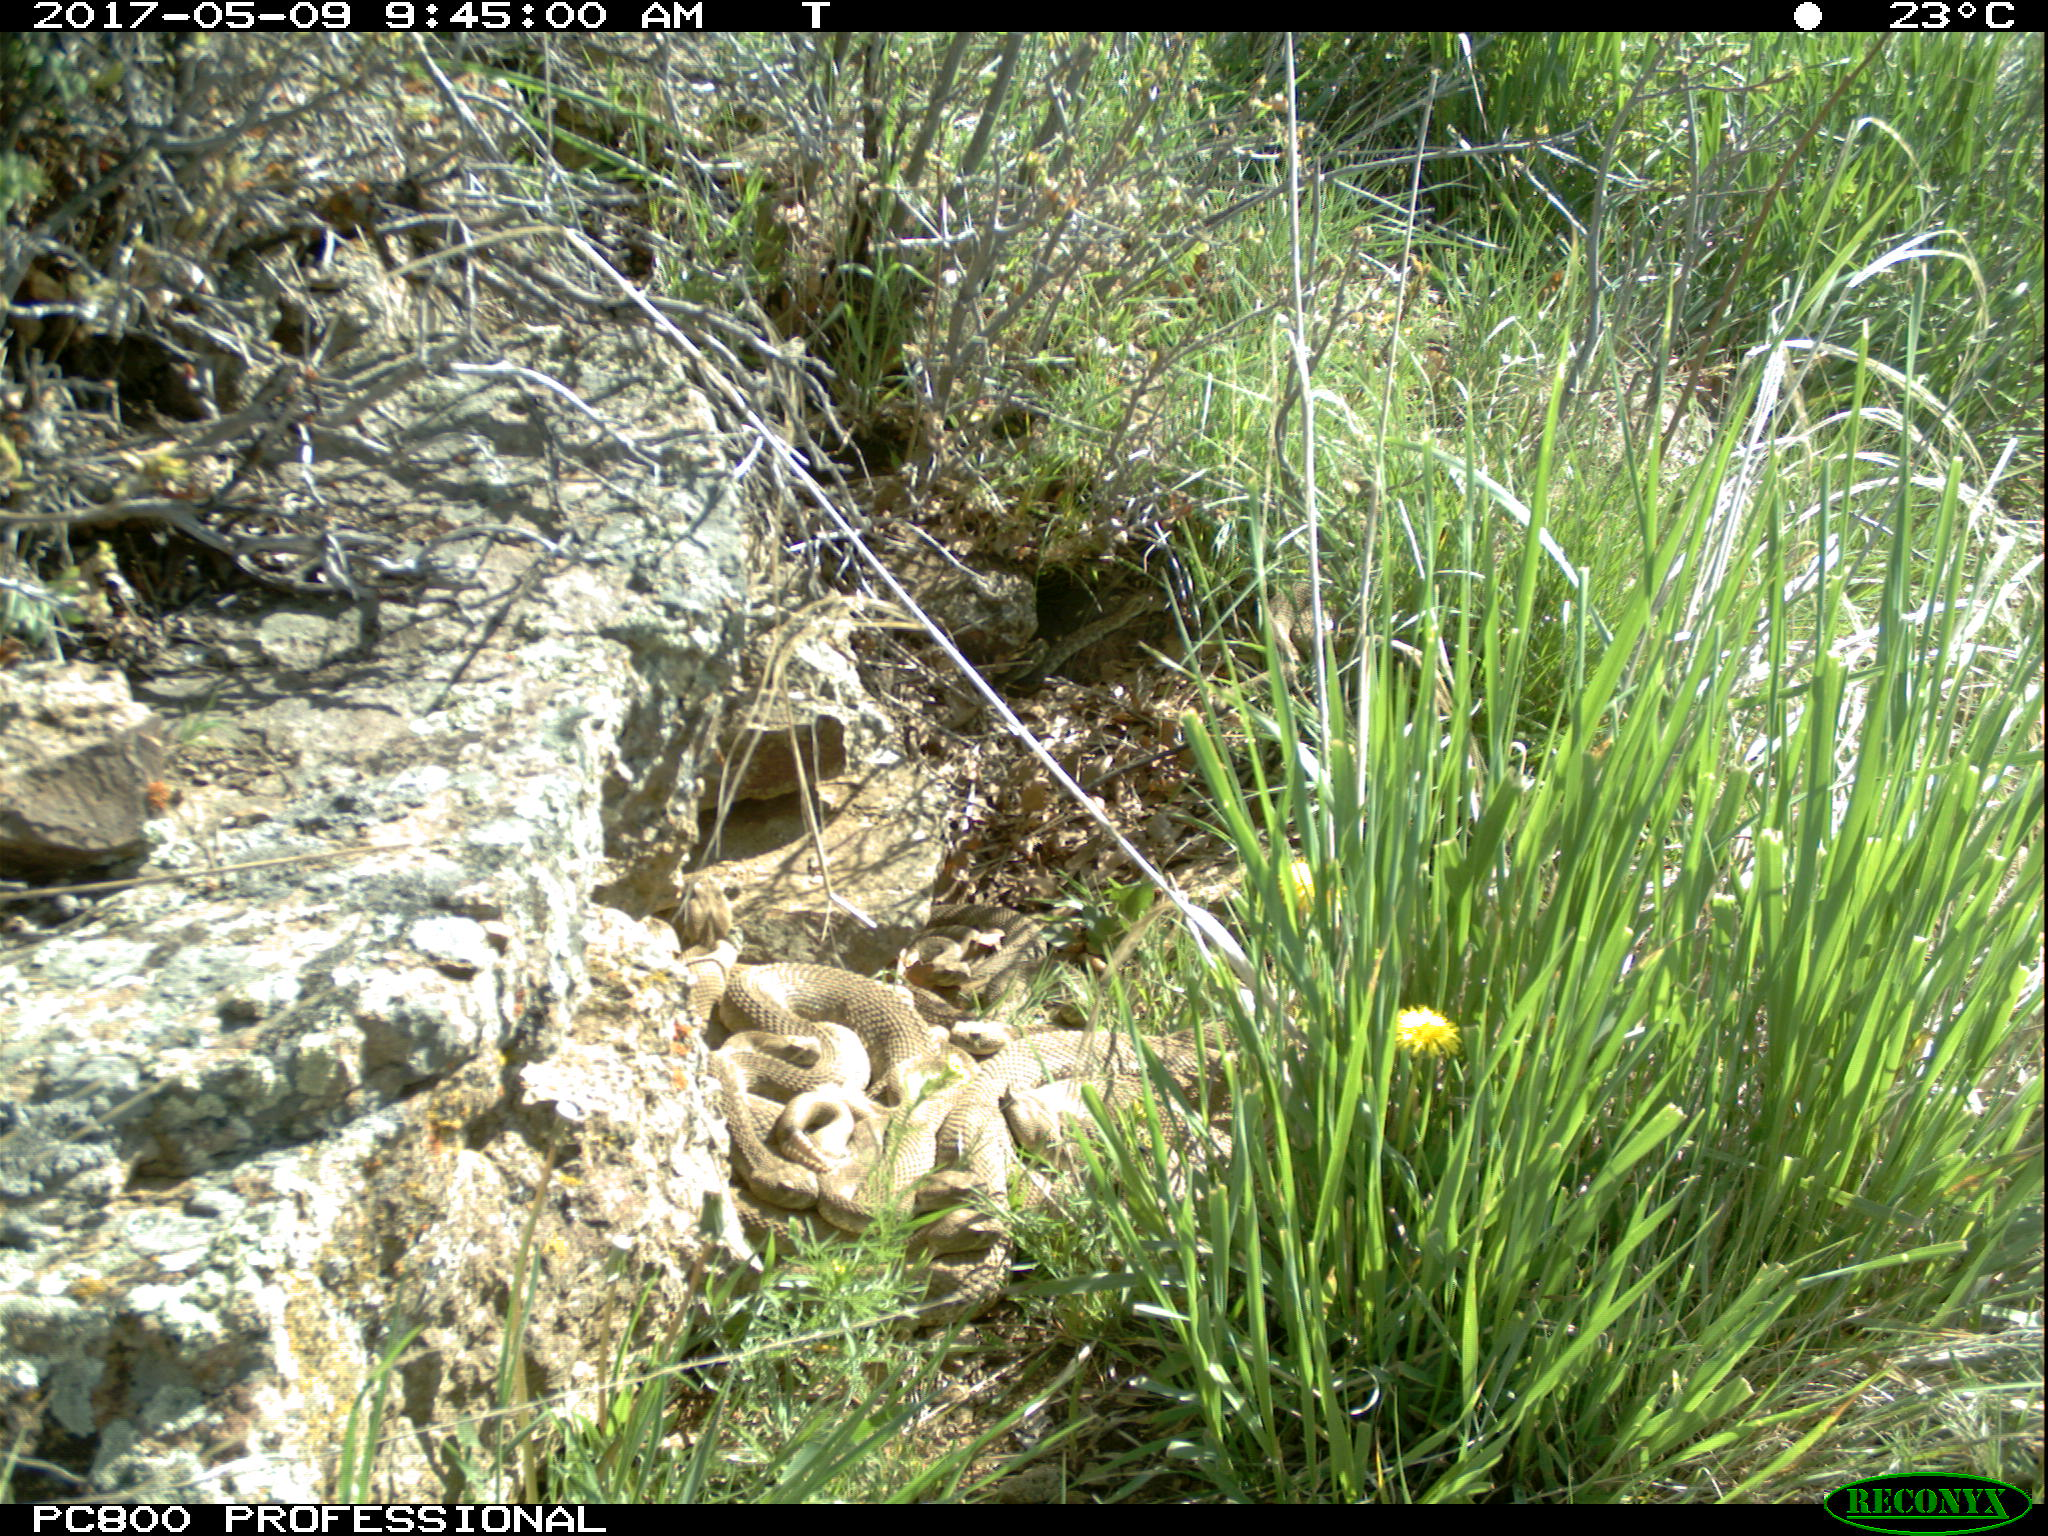snake: (681, 886, 930, 1213), (943, 1025, 1251, 1258), (897, 904, 1068, 1023)
